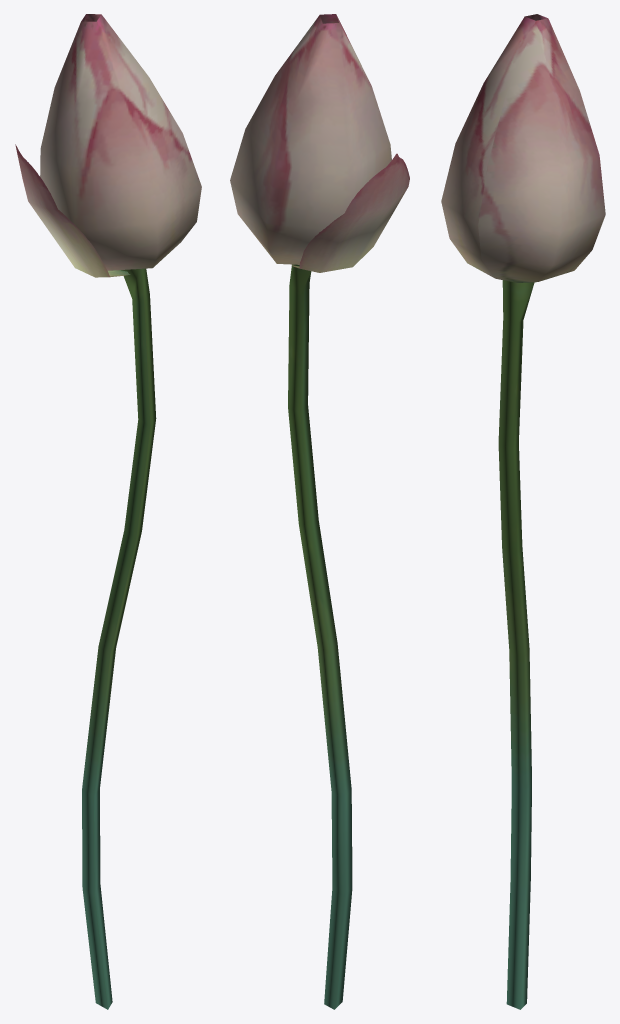
Rendered from Homeworld_General_Common_Thing_Prop_Irodori_MainFlower_06_Mid_Vo.fbx.
3 views of the same model, side by side, from view 1: azimuth 30°, elevation 25°; view 2: azimuth 150°, elevation 25°; view 3: azimuth 270°, elevation 25° (orthographic).
Parts seen in each view (by area): view 1: Homeworld_General_Common_Thing_Prop_Irodori_MainFlower_06_Vo; view 2: Homeworld_General_Common_Thing_Prop_Irodori_MainFlower_06_Vo; view 3: Homeworld_General_Common_Thing_Prop_Irodori_MainFlower_06_Vo.
Boxes of the visible parts, x1,y1,x2,y2 form: Homeworld_General_Common_Thing_Prop_Irodori_MainFlower_06_Vo: (15,14,201,1009); Homeworld_General_Common_Thing_Prop_Irodori_MainFlower_06_Vo: (230,14,409,1009); Homeworld_General_Common_Thing_Prop_Irodori_MainFlower_06_Vo: (441,14,605,1009).
Size of the model in its own units: 0.0597 by 0.3529 by 0.0533.
